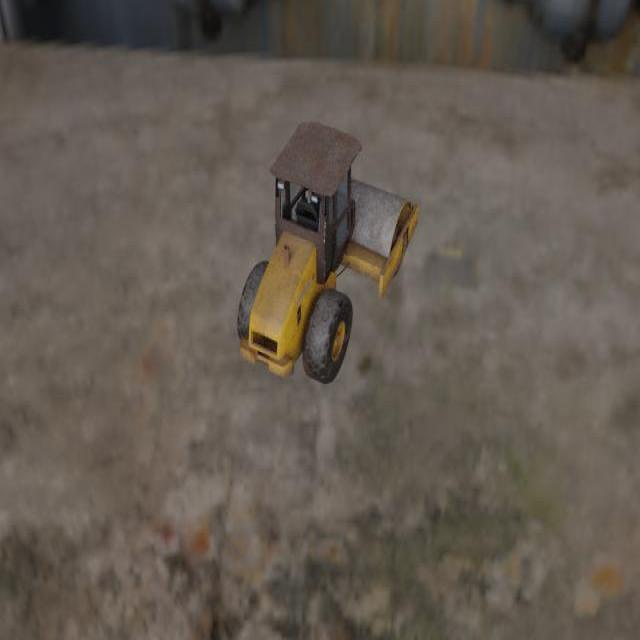Roller: (236, 120, 419, 384)
